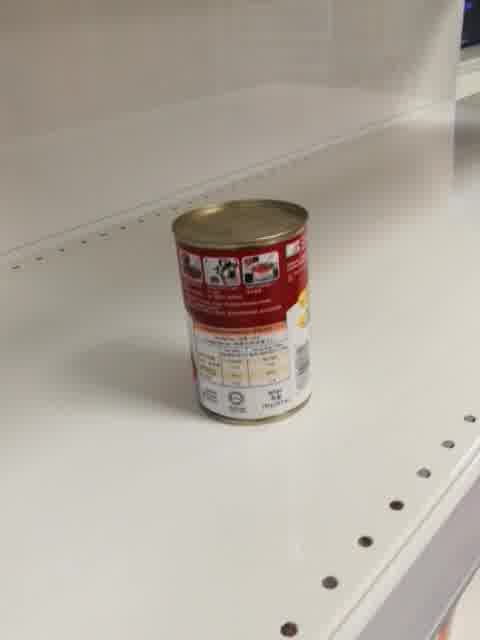tomatosoup: (171, 195, 316, 426)
